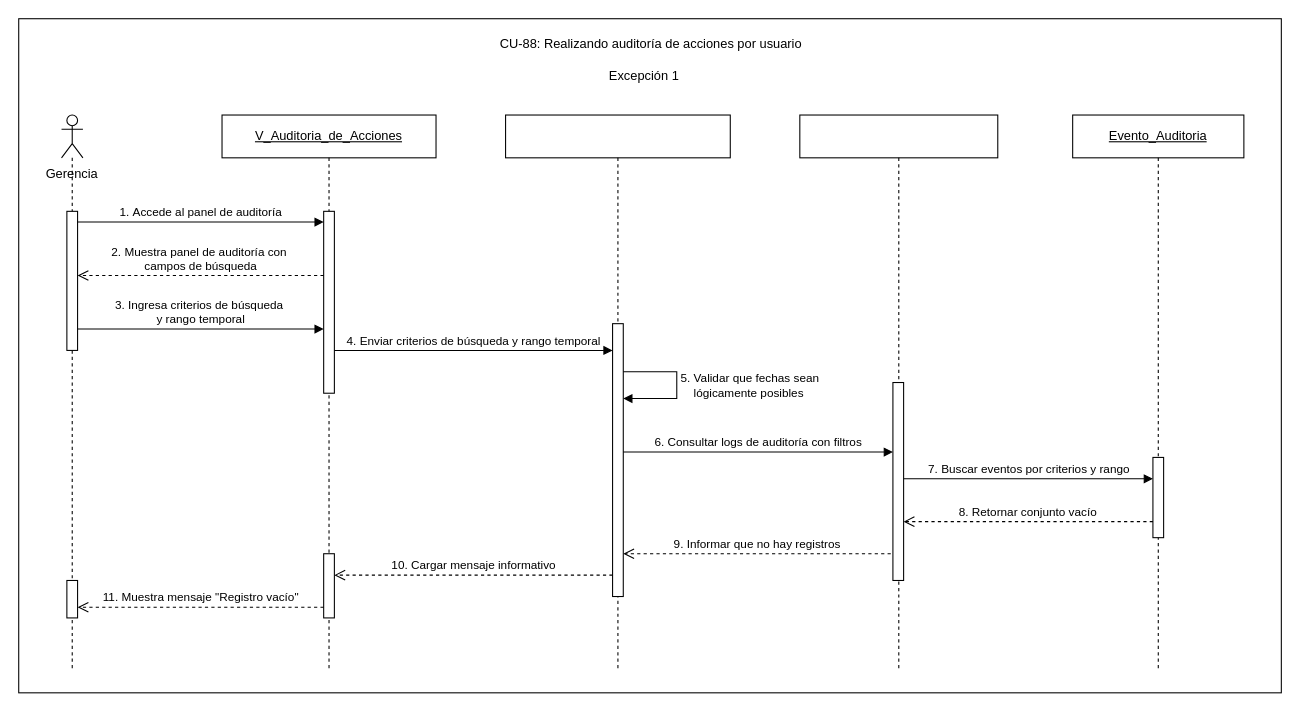
This 1300x712 diagram has some shape labels left out. The shapes that lost their labels are listed below. From the top down, each one's box as (x1, y1, x2, y2) in pixels, then its label:
(505, 114, 730, 671): C_auditoria
(799, 114, 998, 671): C_ Postgre
